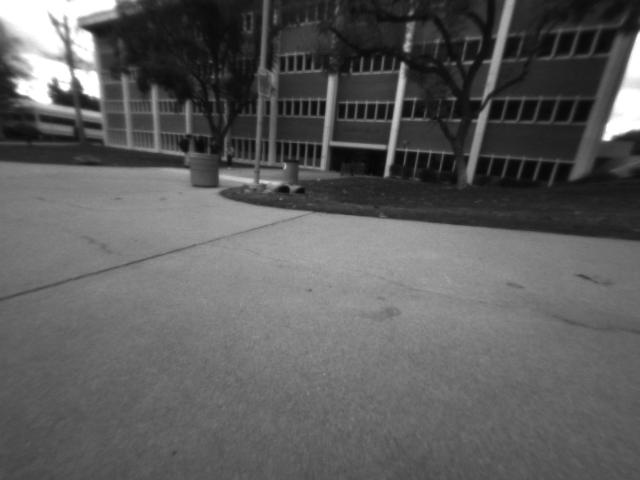trashcan: (186, 147, 223, 194), (278, 154, 301, 186)
